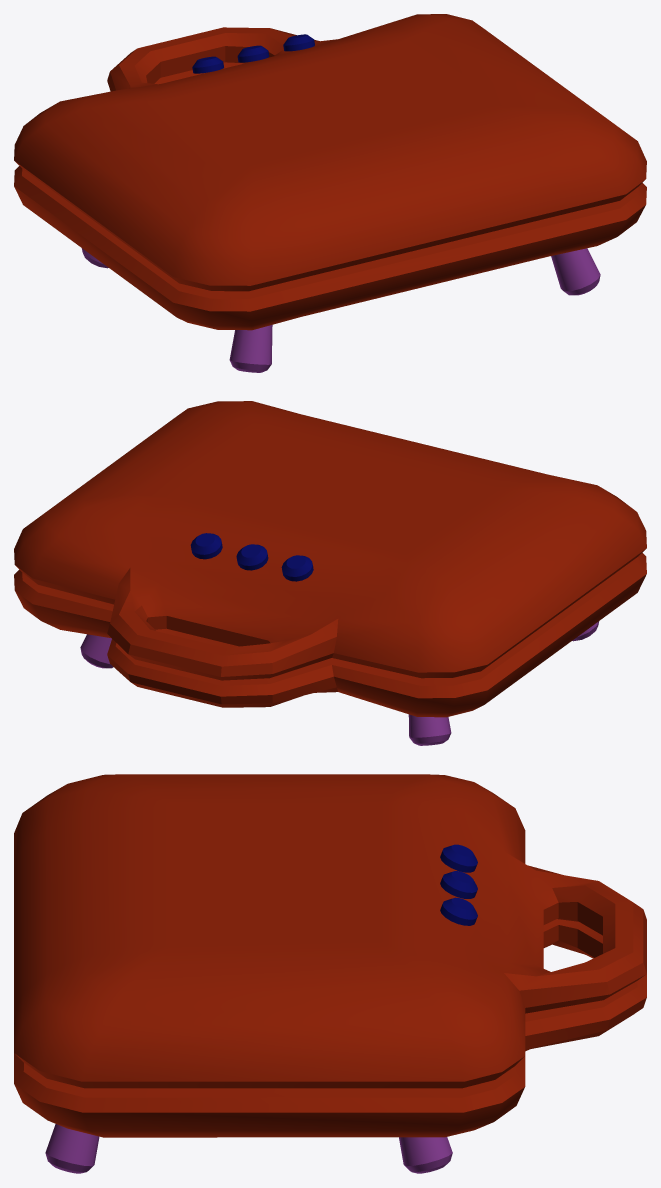
The model's file is Sandwich-Grill.FBX.
3 renders of one model, top to bottom at view 1: azimuth 30°, elevation 25°; view 2: azimuth 150°, elevation 25°; view 3: azimuth 270°, elevation 25°, orthographic. The views are drawn at different scales.
Visible parts, largest first — view 1: Sandwich-Grill; view 2: Sandwich-Grill; view 3: Sandwich-Grill.
Boxes of the visible parts, x1,y1,x2,y2 form: Sandwich-Grill: (14,14,646,372); Sandwich-Grill: (14,401,646,745); Sandwich-Grill: (14,774,646,1173).
Bounding box in the file's own units: 945 × 912 × 322.
